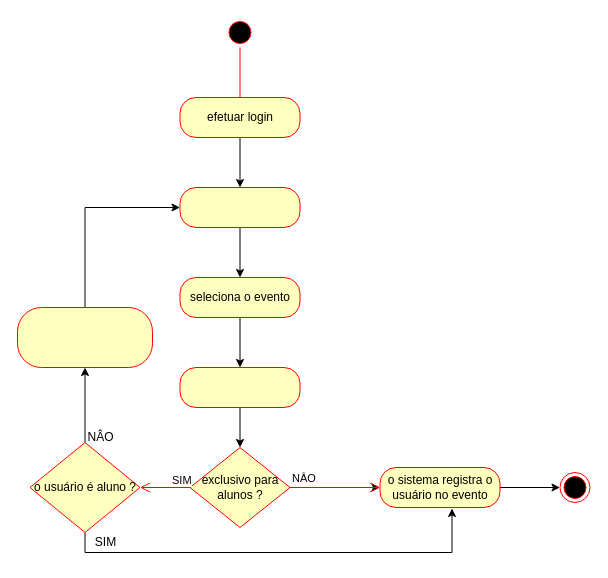
The diagram is 608 pixels wide and 578 high, and some of its shapes have lost their labels. Each missing label, with the centre of its shape:
"buscar evento" belongs at [239,207].
"Informa o usuário que o evento é exclusivo para alunos" belongs at [84,337].
"solicita a inscrição no evento" belongs at [239,387].
